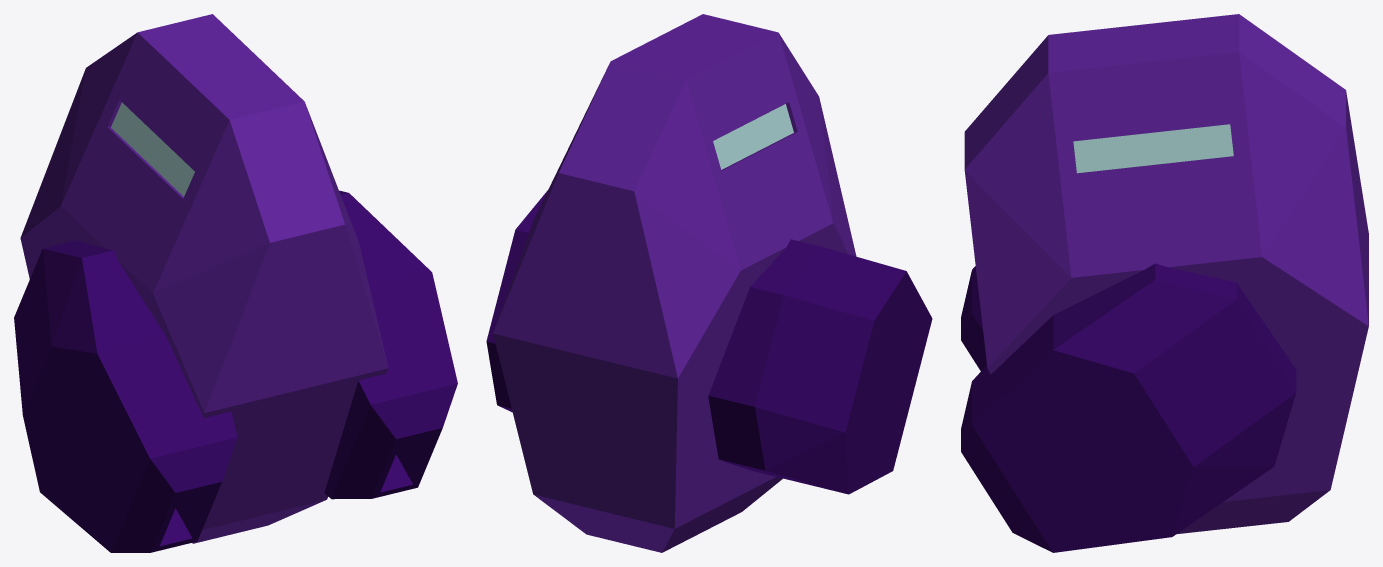
File: baddropship.dae
The picture shows the model from 3 angles, left to right: view 1: azimuth 30°, elevation 25°; view 2: azimuth 150°, elevation 25°; view 3: azimuth 270°, elevation 25°; orthographic projection. The views are drawn at different scales.
Parts seen in each view (by area): view 1: SketchUp (×2), group_0 (×2), group_1 (×2); view 2: SketchUp (×2), group_0, group_1; view 3: SketchUp (×2), group_1, group_0.
Part boxes in pixels (<box>): SketchUp (×2): <box>20,14,388,543</box>; group_0 (×2): <box>14,240,237,552</box>; group_1 (×2): <box>324,190,457,499</box>; SketchUp (×2): <box>493,14,856,552</box>; group_0: <box>708,239,932,494</box>; group_1: <box>486,190,547,412</box>; SketchUp (×2): <box>964,14,1368,533</box>; group_1: <box>961,263,1296,552</box>; group_0: <box>961,266,986,370</box>.
Bounding box in the file's own units: 13.43 × 13.14 × 17.35.
